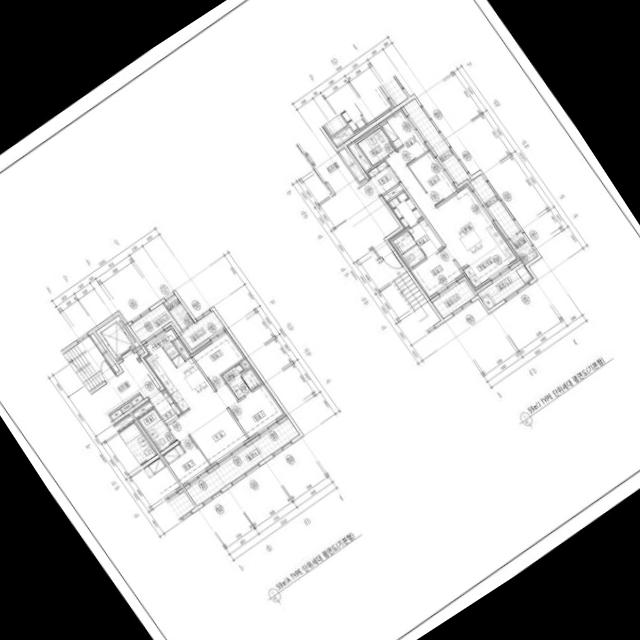background: (0, 0, 640, 640)
space_balconi: (185, 417, 299, 505), (402, 98, 469, 184), (129, 303, 225, 349), (469, 173, 519, 237), (477, 261, 533, 303), (431, 279, 475, 318)
space_bedroom: (191, 328, 245, 389), (228, 383, 285, 439), (378, 107, 429, 164), (409, 247, 463, 299), (408, 150, 457, 204), (161, 435, 211, 486)
space_dressroom: (386, 191, 422, 229)
space_elevator: (95, 314, 139, 360)
space_elevator_hall: (299, 127, 399, 257), (90, 352, 160, 422)
space_front: (365, 159, 399, 194), (149, 388, 181, 425)
space_kitchen: (142, 325, 214, 411), (449, 220, 519, 290)
space_living_room: (385, 151, 491, 250), (167, 384, 248, 466)
space_other: (89, 332, 119, 372), (337, 146, 365, 181), (346, 140, 371, 171), (381, 183, 403, 201), (173, 337, 191, 358), (131, 400, 152, 417), (481, 294, 494, 309), (109, 408, 122, 419), (120, 401, 132, 412), (130, 394, 142, 405), (240, 357, 250, 368), (369, 248, 378, 260), (137, 348, 144, 355)
space_outdoor_room: (163, 294, 193, 329), (508, 231, 537, 264)
space_staircase: (377, 252, 440, 330), (62, 335, 114, 390)
space_toilet: (391, 218, 442, 267), (137, 408, 175, 450), (356, 126, 395, 165), (221, 363, 260, 398)
